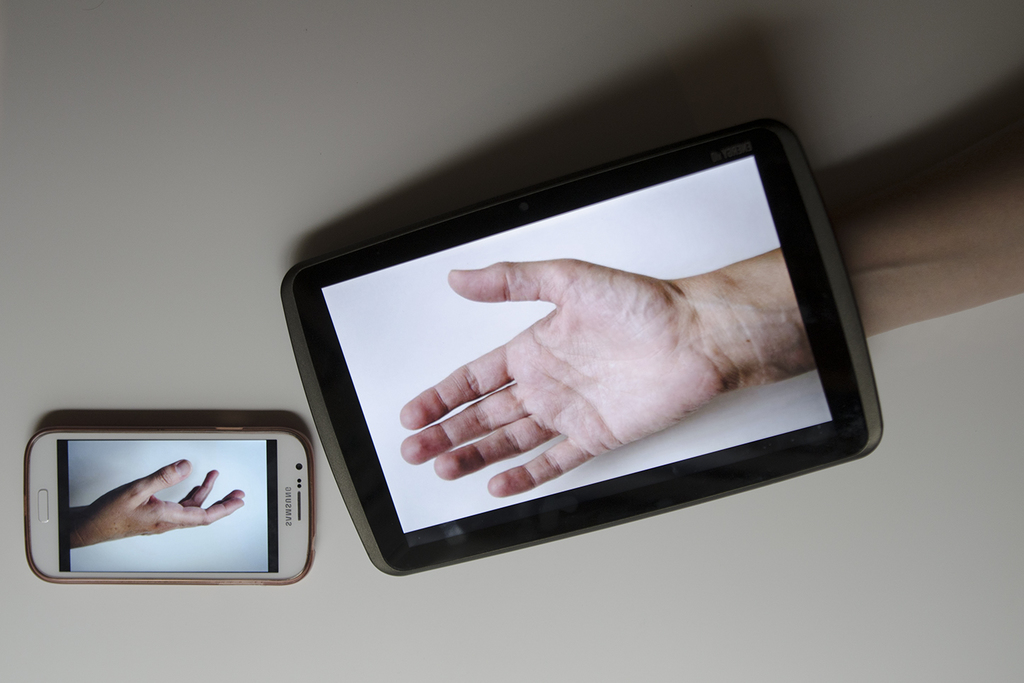Mobile-phone: (22, 410, 318, 579)
